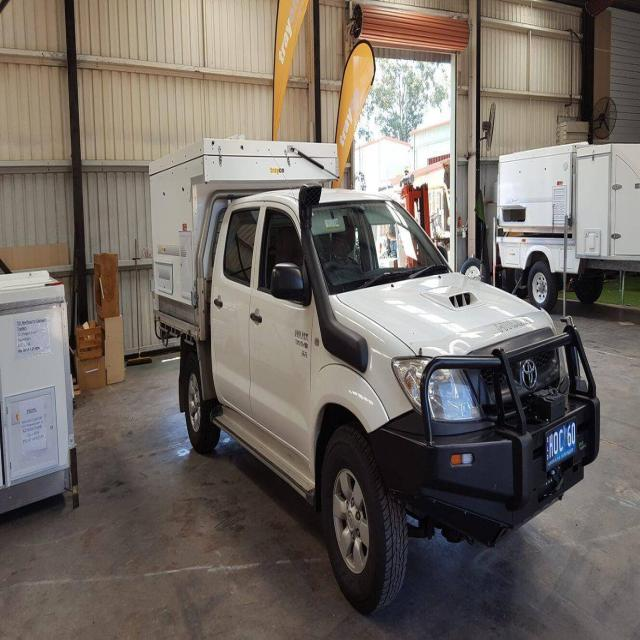light_vehicle: (141, 126, 600, 624)
